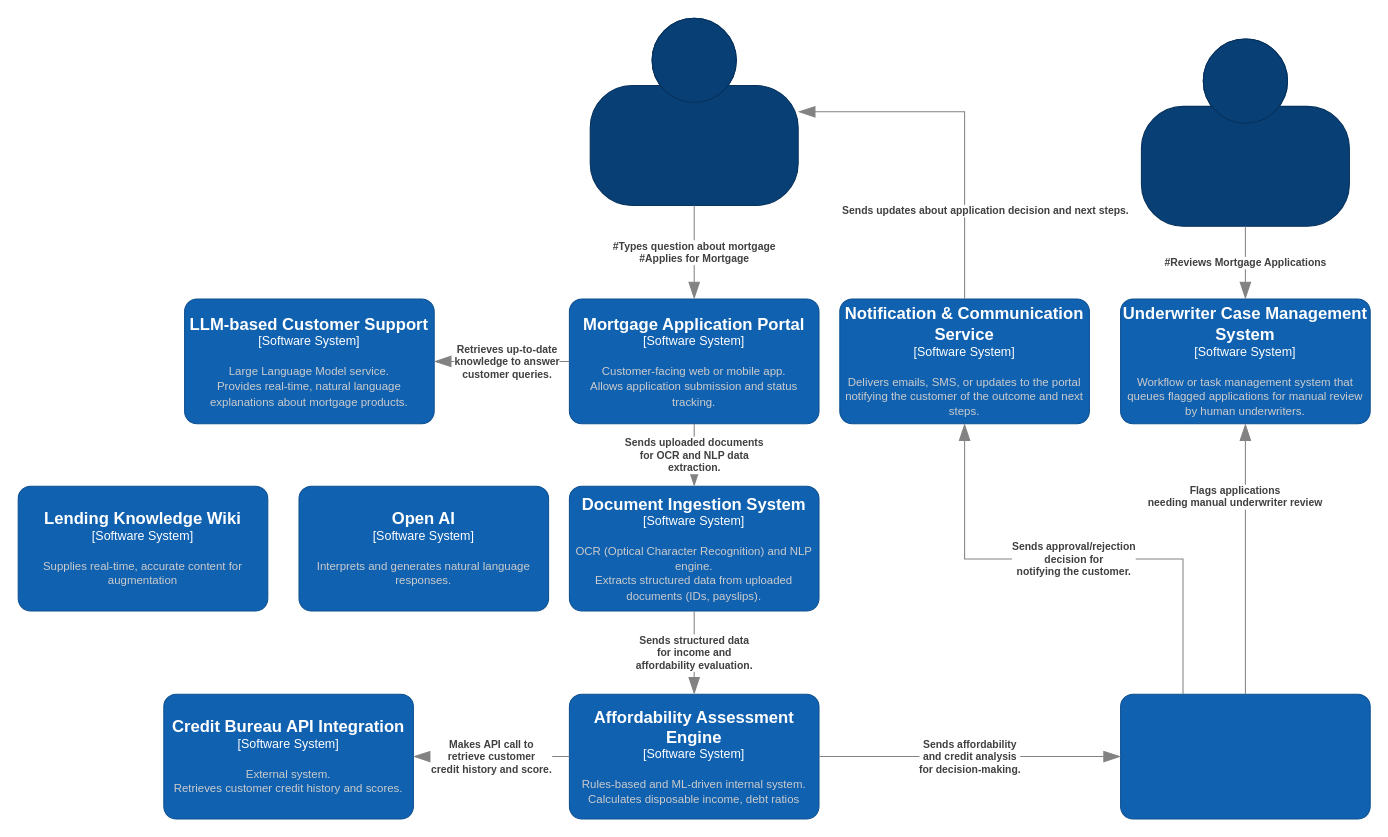
This 1388x837 diagram has some shape labels left out. The centre of each missing label's shape, as x and y in pixels:
"Approval Decision Engine [Software System] Decision Engine" goes at point 1245,756.
"Client [Person] Submits mortgage application and receives notifications." goes at point 693,111.
"Underwriter [Person] Reviews complex/borderline applications." goes at point 1244,132.
